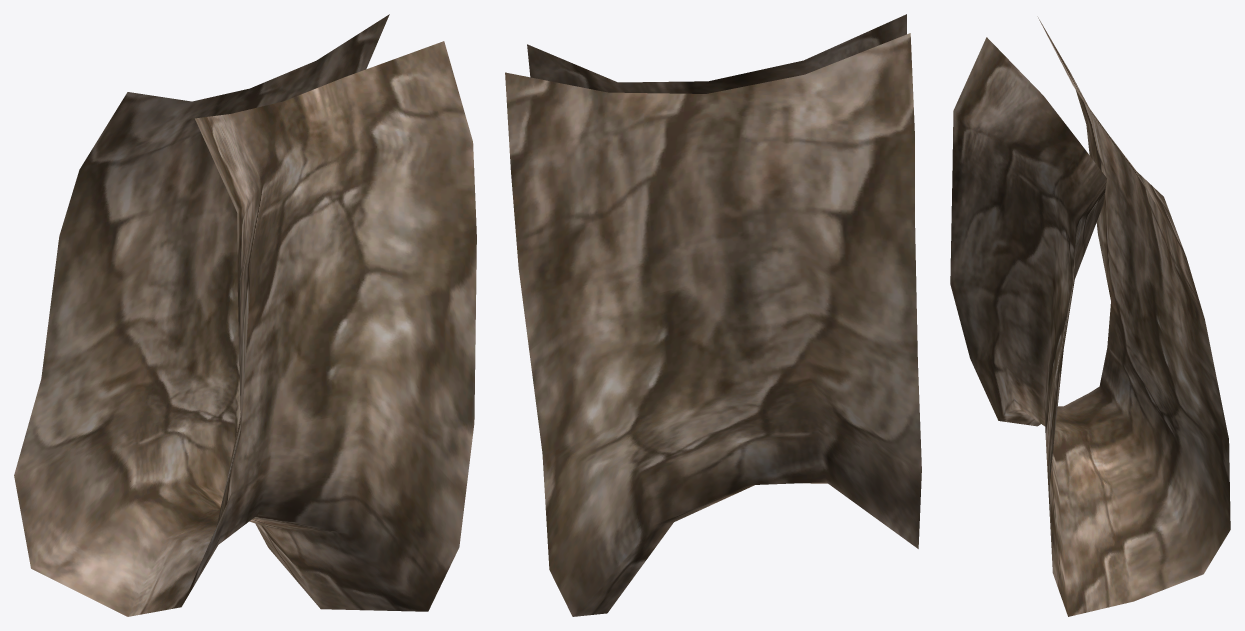
The model's file is OVERHILL_A_01_LINE254.fbx.
3 views of the same model, side by side, from view 1: azimuth 30°, elevation 25°; view 2: azimuth 150°, elevation 25°; view 3: azimuth 270°, elevation 25° (orthographic). The views are drawn at different scales.
Parts seen in each view (by area): view 1: OVERHILL_A_01_LINE254; view 2: OVERHILL_A_01_LINE254; view 3: OVERHILL_A_01_LINE254.
Boxes of the visible parts, x1,y1,x2,y2 form: OVERHILL_A_01_LINE254: (14, 14, 476, 616); OVERHILL_A_01_LINE254: (505, 14, 921, 616); OVERHILL_A_01_LINE254: (950, 16, 1230, 616).
Bounding box in the file's own units: 39349 × 54325 × 28174.
1 material, 1 textured.
